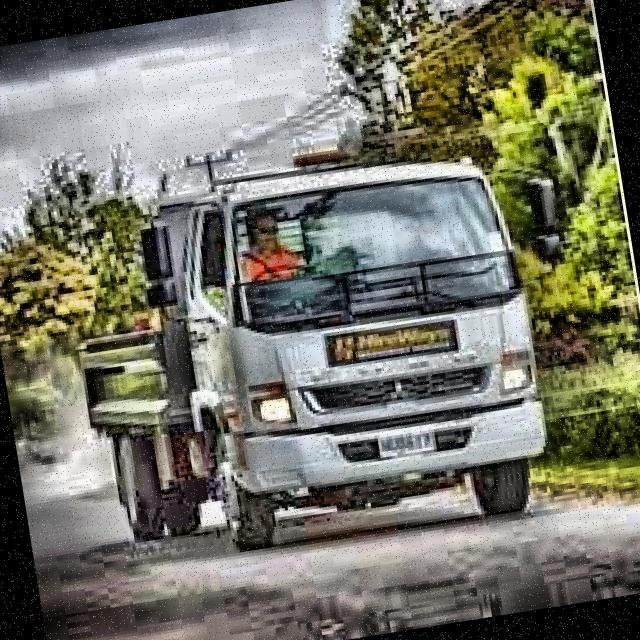dump_truck: (44, 128, 614, 575)
